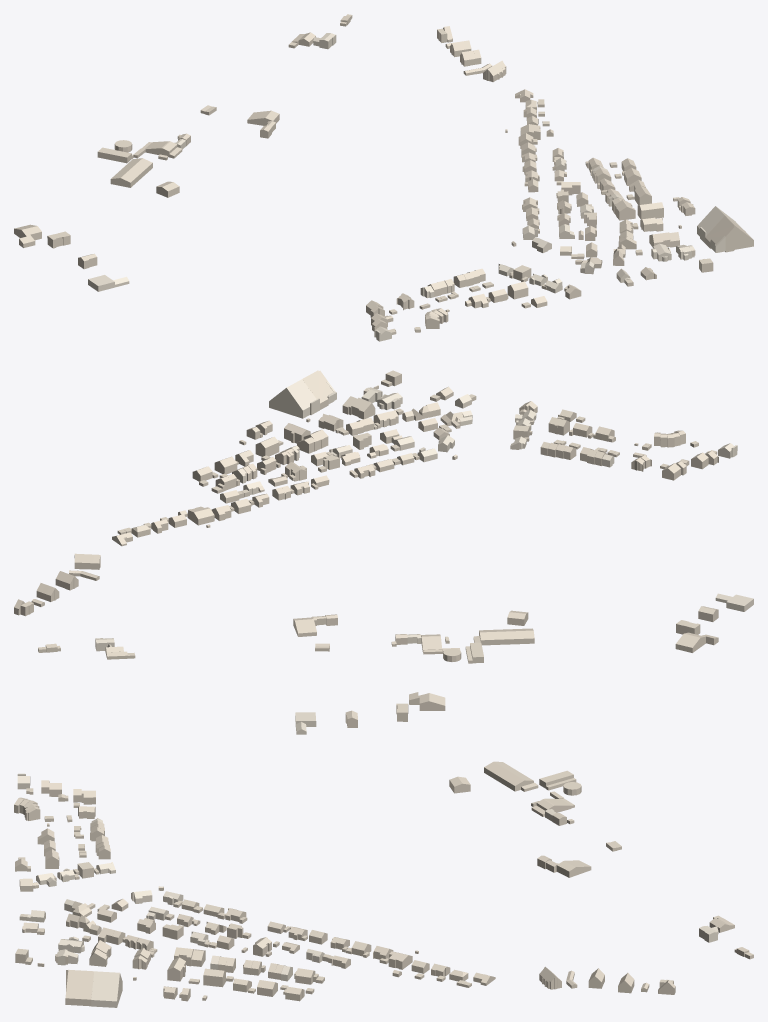
3 renders of one model, top to bottom at view 1: azimuth 30°, elevation 25°; view 2: azimuth 150°, elevation 25°; view 3: azimuth 270°, elevation 25°, orthographic. The views are drawn at different scales.
Bounding box in the file's own units: 622 × 30.9 × 666.
